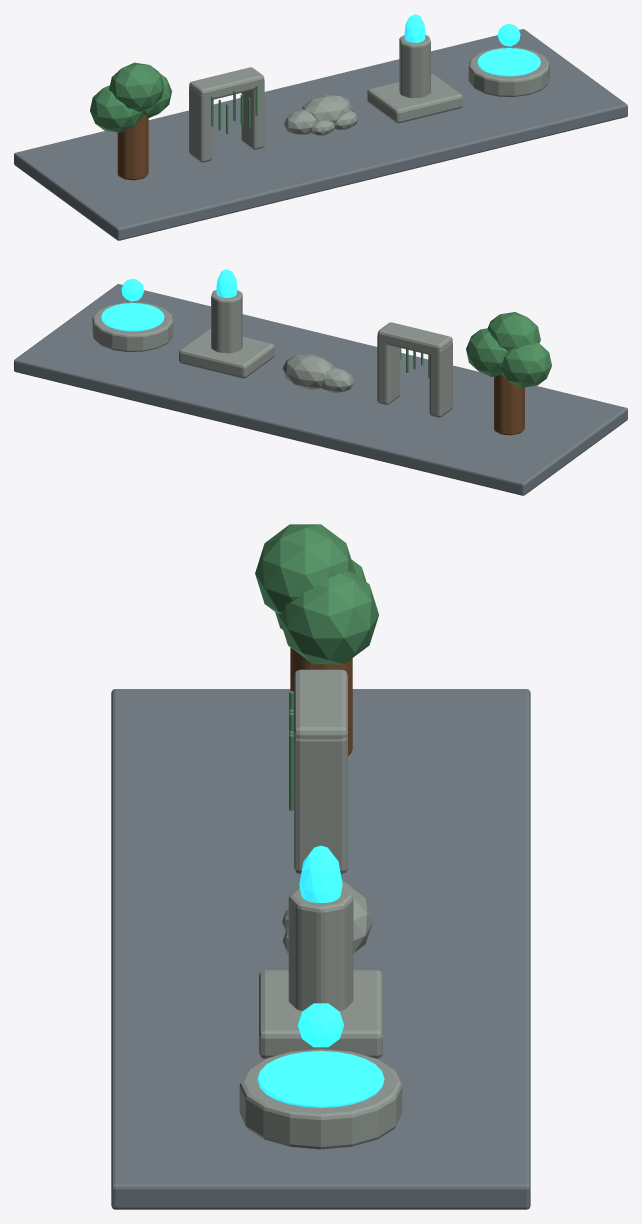
The model's file is Flooded_Sanctuary_Asset_Roster.glb.
The picture shows the model from 3 angles, top to bottom: view 1: azimuth 30°, elevation 25°; view 2: azimuth 150°, elevation 25°; view 3: azimuth 270°, elevation 25°; orthographic projection. The views are drawn at different scales.
Visible parts, largest first — view 1: Display_Plinth, Broken_Shrine_Base, Water_Basin, Tree_Canopy.002, Shrine_Pillar, Ancient_Tree_Trunk, Vine_Arch_L, Tree_Canopy, Vine_Arch_T, Sacred_Water, Vine_Arch_R, Rock_1 (+4 smaller); view 2: Display_Plinth, Broken_Shrine_Base, Water_Basin, Shrine_Pillar, Tree_Canopy, Ancient_Tree_Trunk, Vine_Arch_L, Vine_Arch_T, Tree_Canopy.002, Sacred_Water, Vine_Arch_R, Tree_Canopy.001 (+4 smaller); view 3: Display_Plinth, Water_Basin, Shrine_Pillar, Tree_Canopy.001, Vine_Arch_R, Broken_Shrine_Base, Sacred_Water, Tree_Canopy.002, Vine_Arch_T, Shrine_Crystal, Water_Orb, Ancient_Tree_Trunk (+1 smaller).
Part boxes in pixels (<box>): Display_Plinth: <box>14,29,627,240</box>; Broken_Shrine_Base: <box>367,73,462,123</box>; Water_Basin: <box>468,47,549,96</box>; Tree_Canopy.002: <box>109,62,164,111</box>; Shrine_Pillar: <box>399,35,430,98</box>; Ancient_Tree_Trunk: <box>117,113,148,180</box>; Vine_Arch_L: <box>189,86,212,162</box>; Tree_Canopy: <box>90,85,143,132</box>; Vine_Arch_T: <box>189,67,264,99</box>; Sacred_Water: <box>477,48,540,76</box>; Vine_Arch_R: <box>241,80,264,149</box>; Rock_1: <box>302,94,353,123</box>; Display_Plinth: <box>14,284,627,495</box>; Broken_Shrine_Base: <box>179,328,274,378</box>; Water_Basin: <box>92,302,173,351</box>; Shrine_Pillar: <box>211,290,242,353</box>; Tree_Canopy: <box>500,342,551,387</box>; Ancient_Tree_Trunk: <box>494,374,524,435</box>; Vine_Arch_L: <box>429,341,452,417</box>; Vine_Arch_T: <box>377,322,452,355</box>; Tree_Canopy.002: <box>487,312,540,351</box>; Sacred_Water: <box>101,303,164,331</box>; Vine_Arch_R: <box>377,335,400,404</box>; Tree_Canopy.001: <box>466,328,507,376</box>; Display_Plinth: <box>111,689,530,1209</box>; Water_Basin: <box>239,1049,402,1149</box>; Shrine_Pillar: <box>288,887,353,1011</box>; Tree_Canopy.001: <box>278,571,378,664</box>; Vine_Arch_R: <box>294,738,347,873</box>; Broken_Shrine_Base: <box>259,970,382,1058</box>; Sacred_Water: <box>257,1051,384,1107</box>; Tree_Canopy.002: <box>255,524,355,614</box>; Vine_Arch_T: <box>294,669,347,739</box>; Shrine_Crystal: <box>299,845,342,902</box>; Water_Orb: <box>297,1003,344,1047</box>; Ancient_Tree_Trunk: <box>290,647,352,755</box>.
Size of the model in its own units: 15.2 by 3.56 by 5.4.
